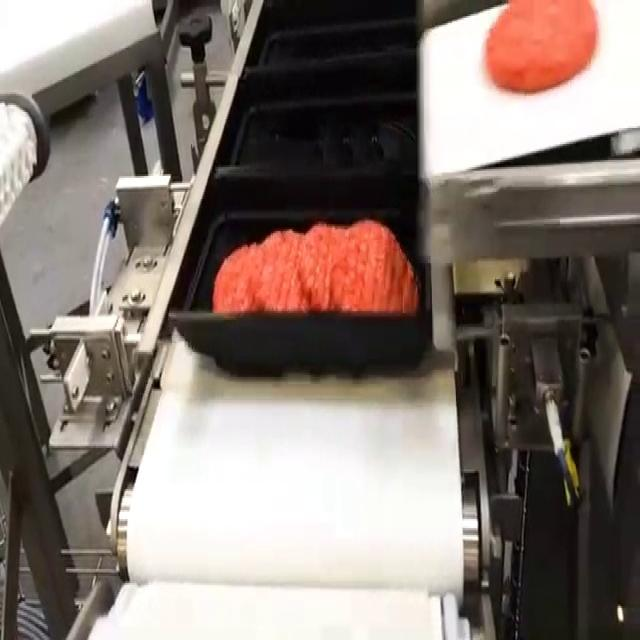4-hamburguer: (212, 219, 418, 311)
